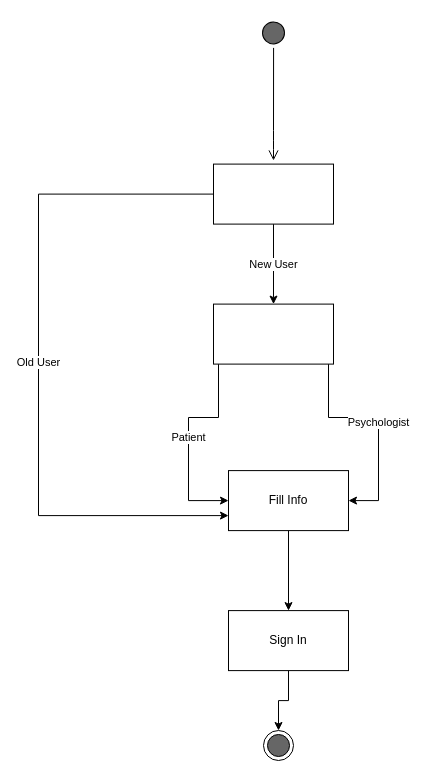
Some shapes in this 427 by 779 pixel diagram are drawn without their labels. Each missing label, with the box of its shape:
Guest: (212, 303, 334, 364)
Person Enters The Site: (212, 163, 334, 224)
